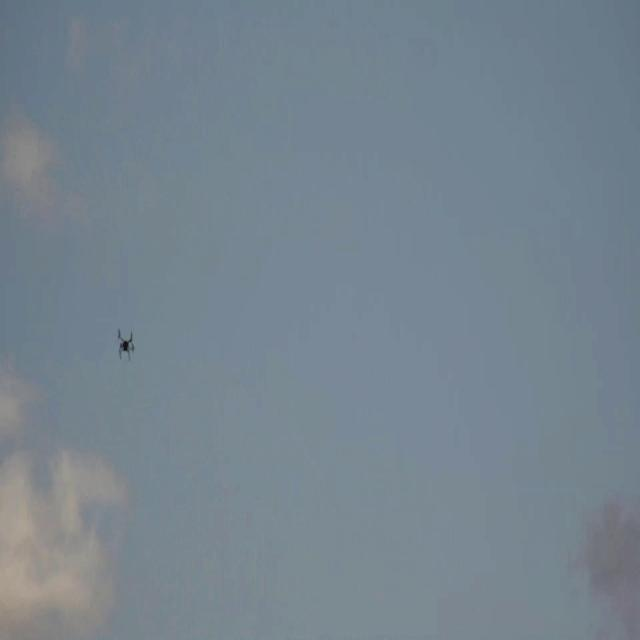drone: (115, 314, 144, 370)
